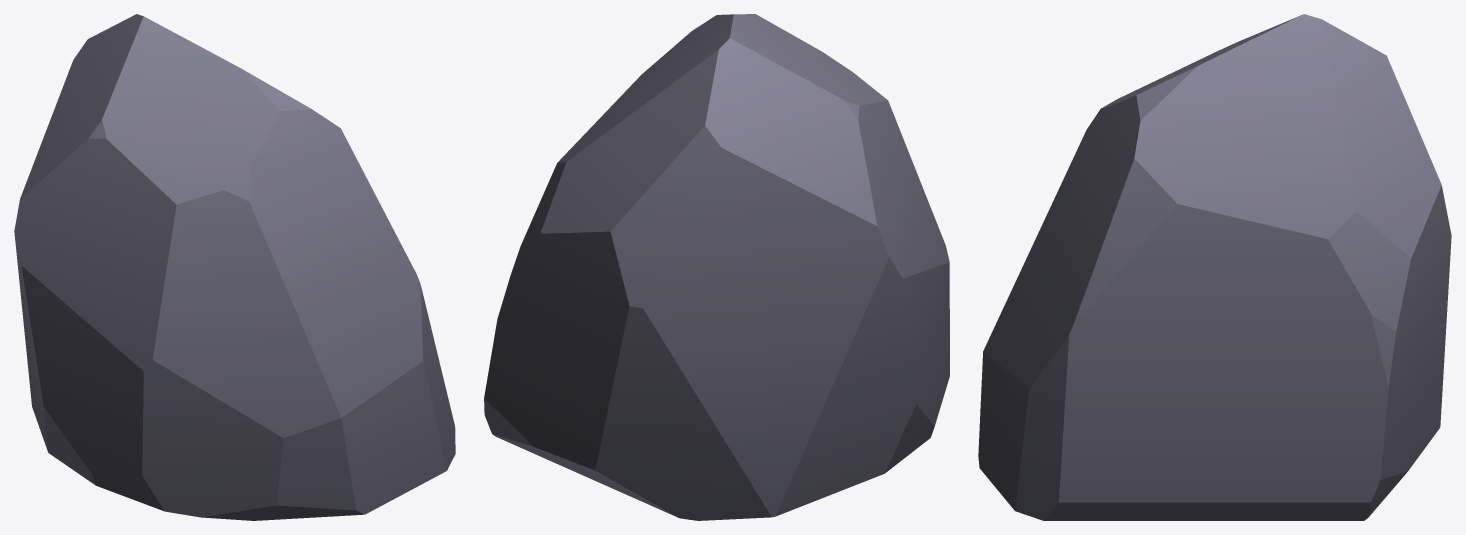
File: Rock_02.glb
The picture shows the model from 3 angles, left to right: view 1: azimuth 30°, elevation 25°; view 2: azimuth 150°, elevation 25°; view 3: azimuth 270°, elevation 25°; orthographic projection. The views are drawn at different scales.
Visible parts, largest first — view 1: Rock_02_LOD0; view 2: Rock_02_LOD0; view 3: Rock_02_LOD0.
Part boxes in pixels (x1,y1,x2,y2): Rock_02_LOD0: [14, 14, 455, 520]; Rock_02_LOD0: [484, 14, 949, 520]; Rock_02_LOD0: [978, 14, 1451, 520].
Size of what is drawn, in the model's own units: 0.5017 by 0.5824 by 0.5856.
Materials: 1 (1 with a texture image).
